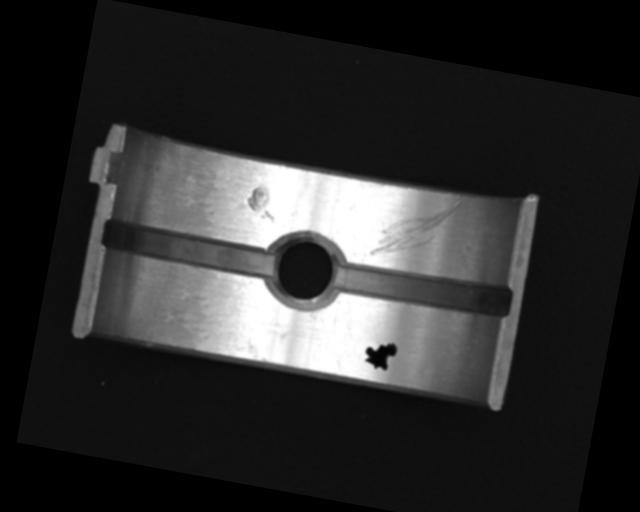blot: (362, 337, 399, 373)
bruise: (243, 185, 279, 223)
gap: (329, 255, 513, 322), (99, 218, 277, 279)
hole: (262, 228, 348, 314)
nick: (370, 186, 462, 269)
